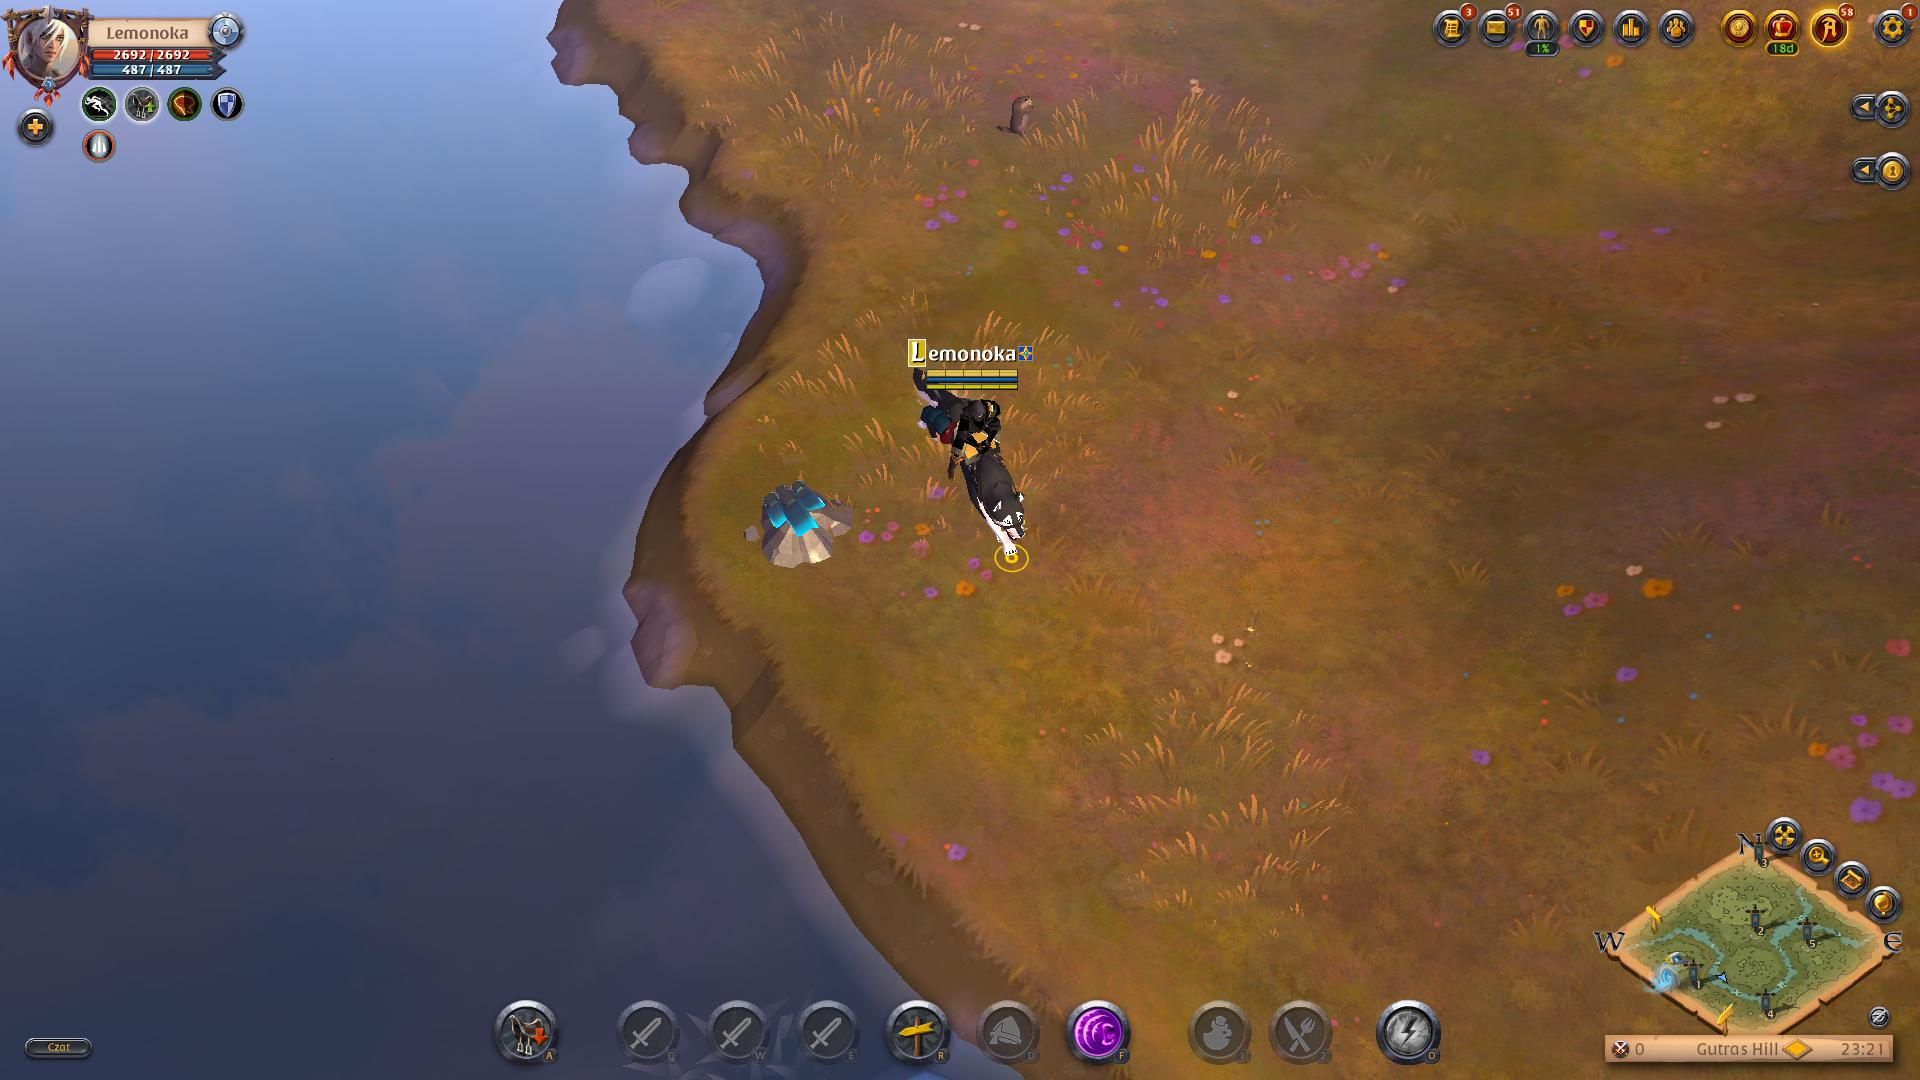ore tier 4: (756, 481, 857, 572)
